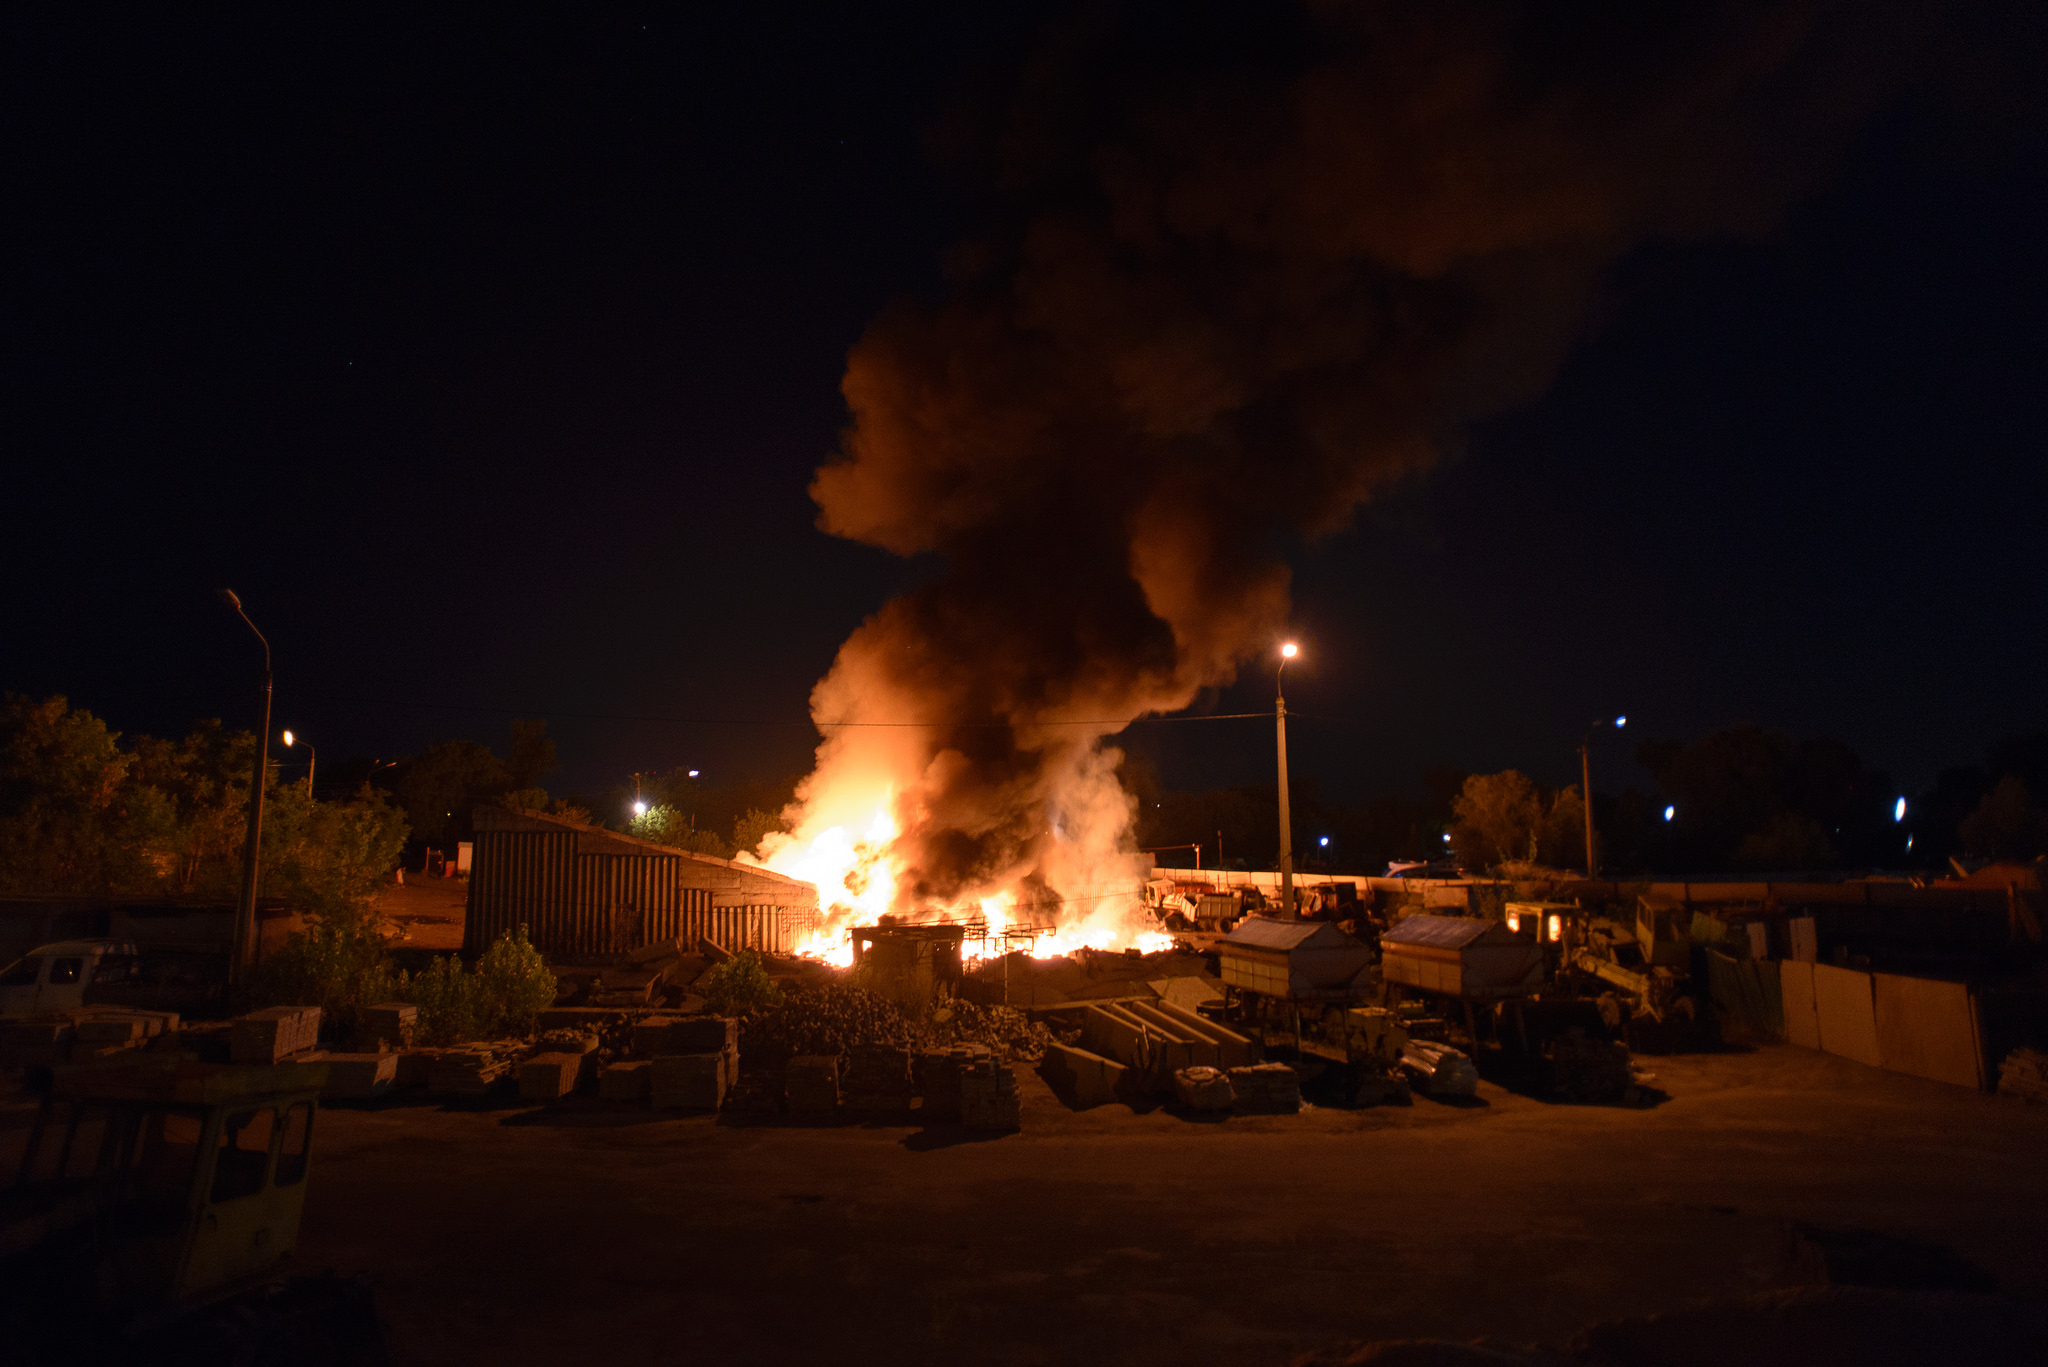fire: (740, 758, 1205, 1012)
